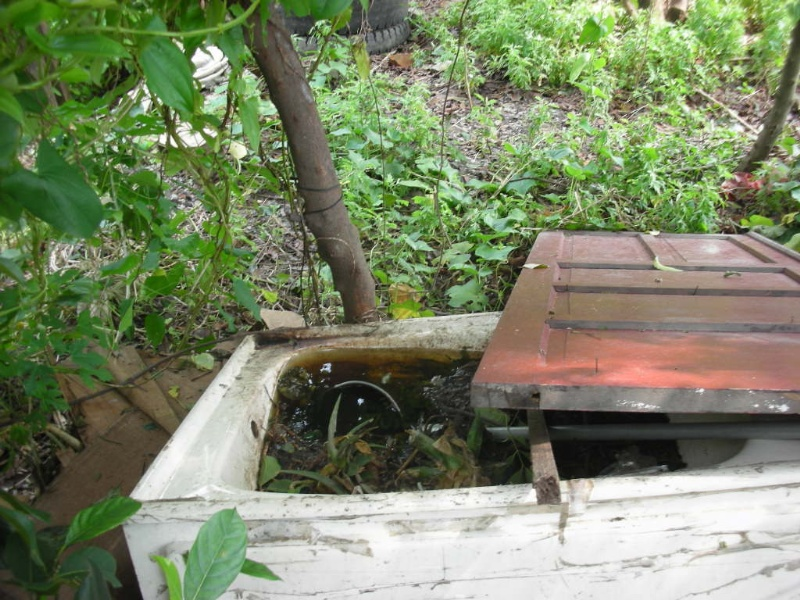box: (121, 310, 800, 598)
